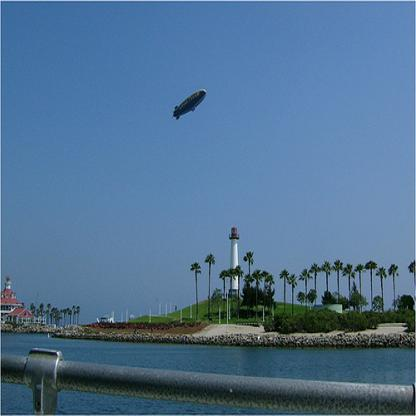Airship: (173, 86, 210, 126)
